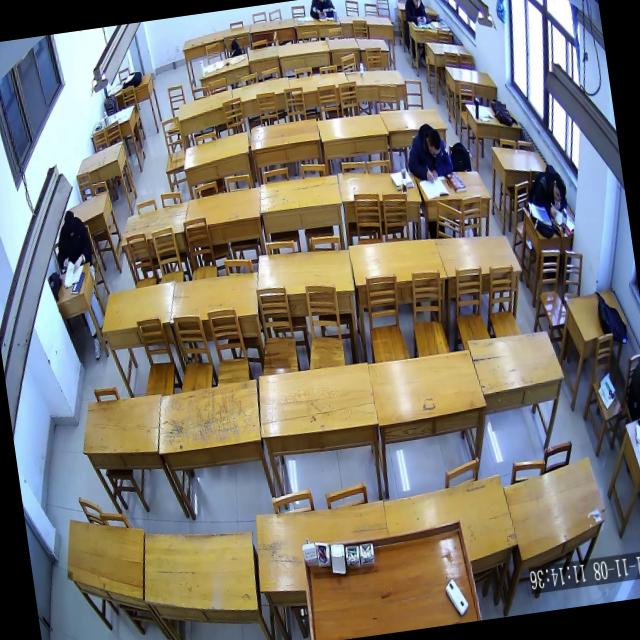down: (424, 126, 444, 162), (61, 208, 80, 242), (550, 174, 568, 206), (410, 0, 423, 10)
sit: (402, 119, 456, 188), (51, 205, 96, 278), (526, 162, 572, 224), (401, 0, 430, 27)
